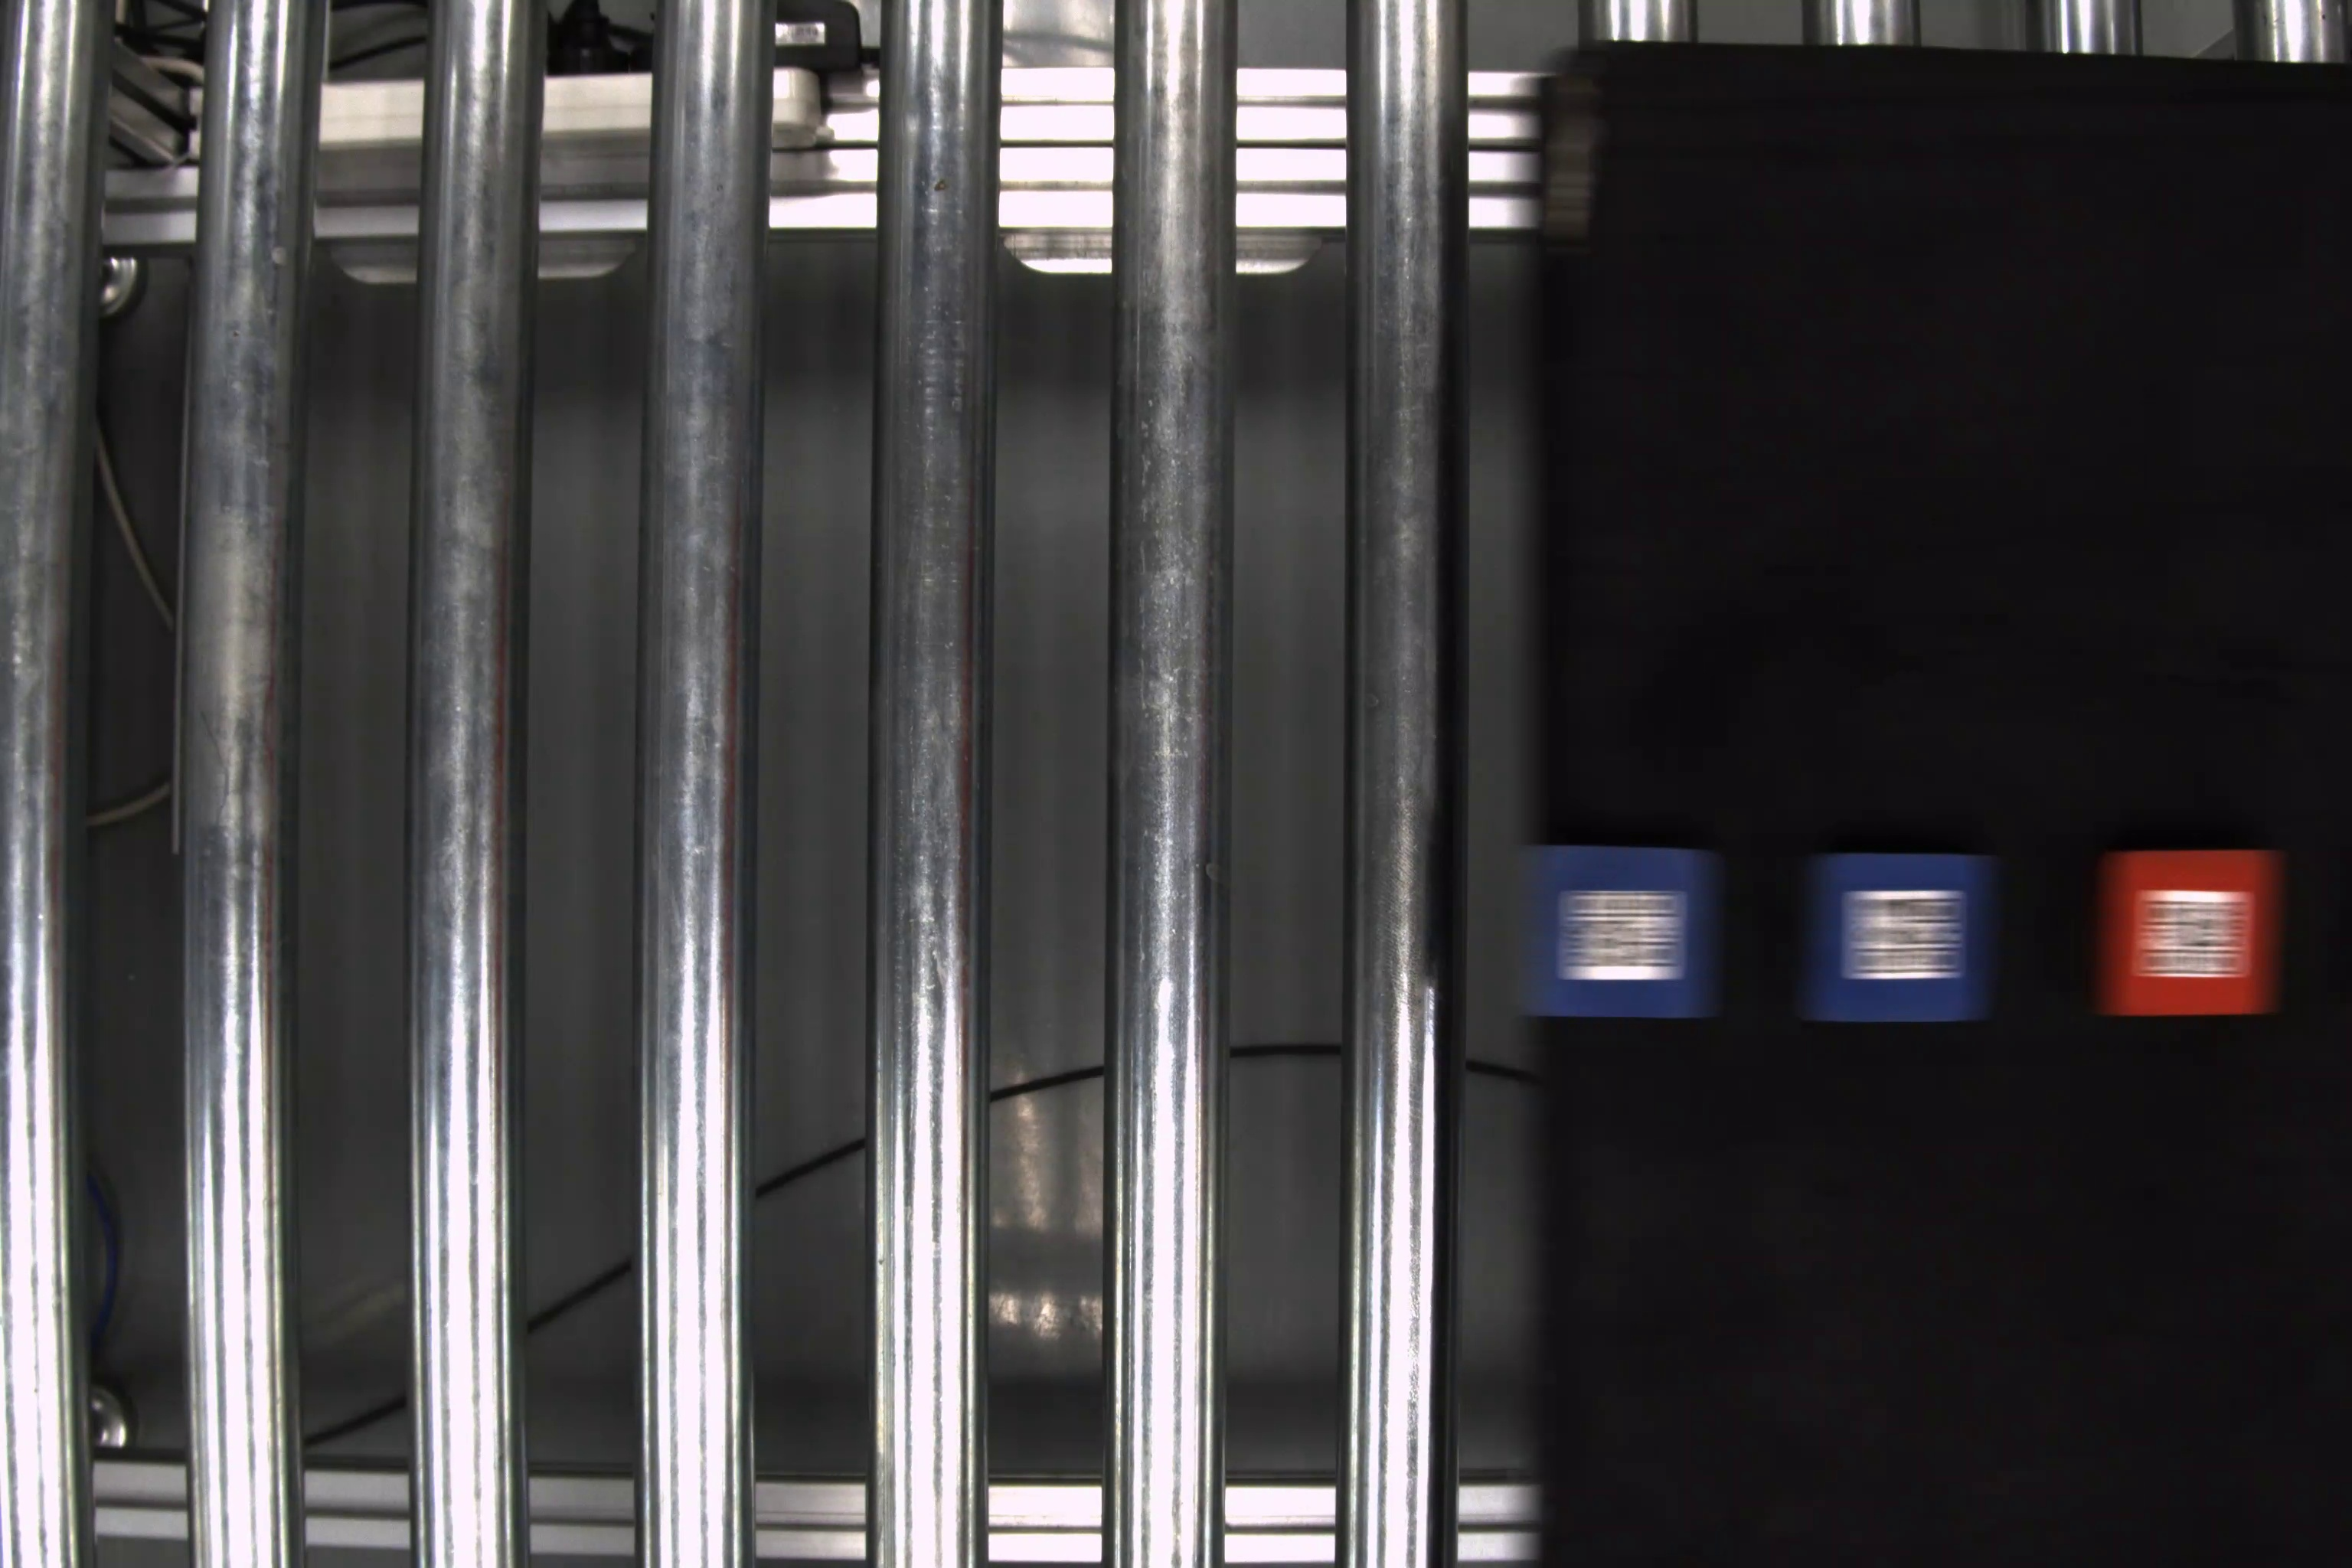wood: (1519, 842, 1729, 1022), (1804, 843, 2002, 1029), (2103, 845, 2291, 1022)
